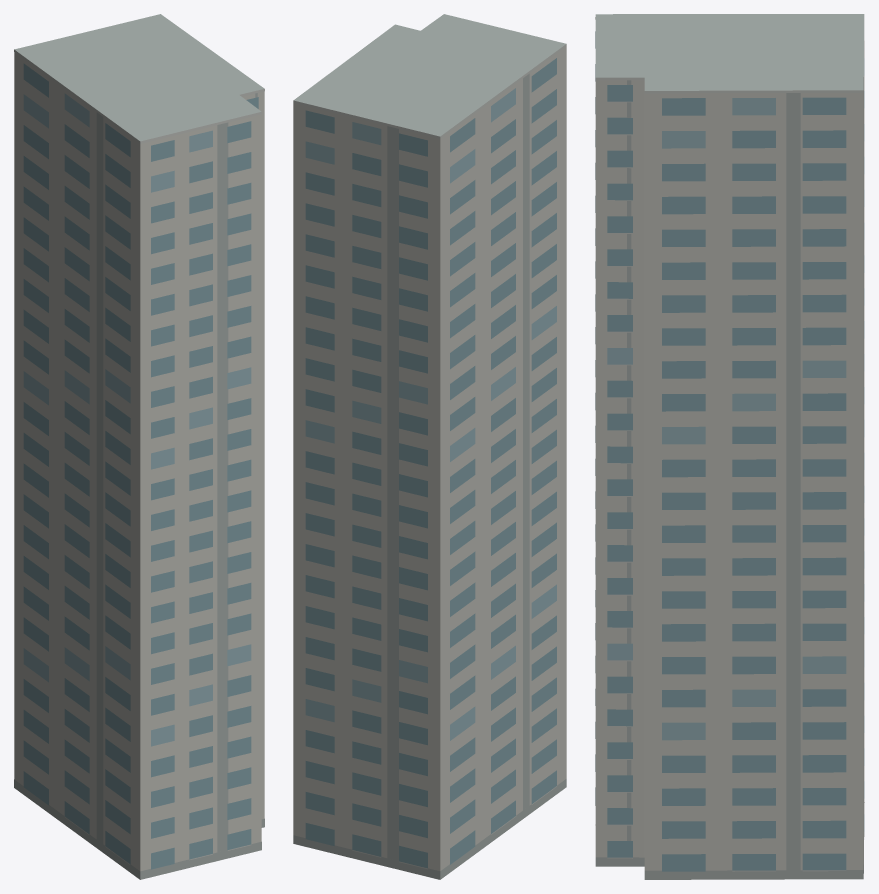
File: survey-upis-32971752.glb
The picture shows the model from 3 angles, left to right: view 1: azimuth 30°, elevation 25°; view 2: azimuth 150°, elevation 25°; view 3: azimuth 270°, elevation 25°; orthographic projection. The views are drawn at different scales.
Visible parts, largest first — view 1: survey-upis-32971752.tmp; view 2: survey-upis-32971752.tmp; view 3: survey-upis-32971752.tmp.
Part boxes in pixels (box(x1,y1,x2,y2)): survey-upis-32971752.tmp: box(14, 14, 264, 879); survey-upis-32971752.tmp: box(293, 14, 566, 879); survey-upis-32971752.tmp: box(595, 14, 864, 879).
Size of the model in its own units: 15.33 by 73.2 by 22.62.
